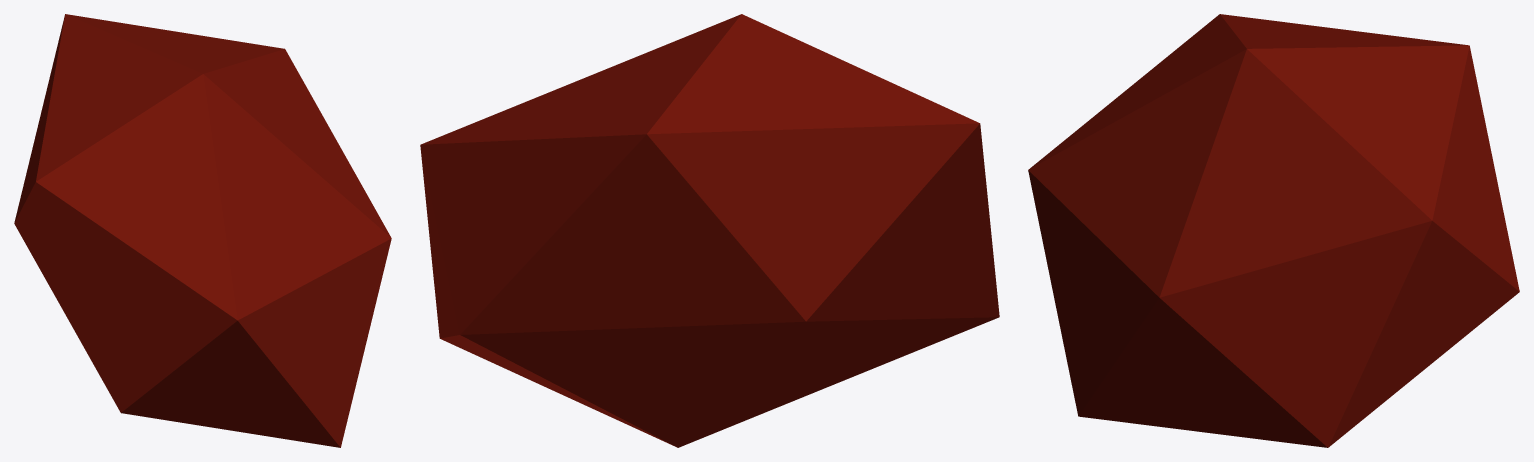
File: Platonic_5.gltf
3 views of the same model, side by side, from view 1: azimuth 30°, elevation 25°; view 2: azimuth 150°, elevation 25°; view 3: azimuth 270°, elevation 25° (orthographic). The views are drawn at different scales.
Parts seen in each view (by area): view 1: Platonic_5; view 2: Platonic_5; view 3: Platonic_5.
Boxes of the visible parts, <box> form: Platonic_5: <box>14,14,391,447</box>; Platonic_5: <box>420,14,999,447</box>; Platonic_5: <box>1028,14,1519,447</box>.
Size of the model in its own units: 43.16 by 36.22 by 45.96.
